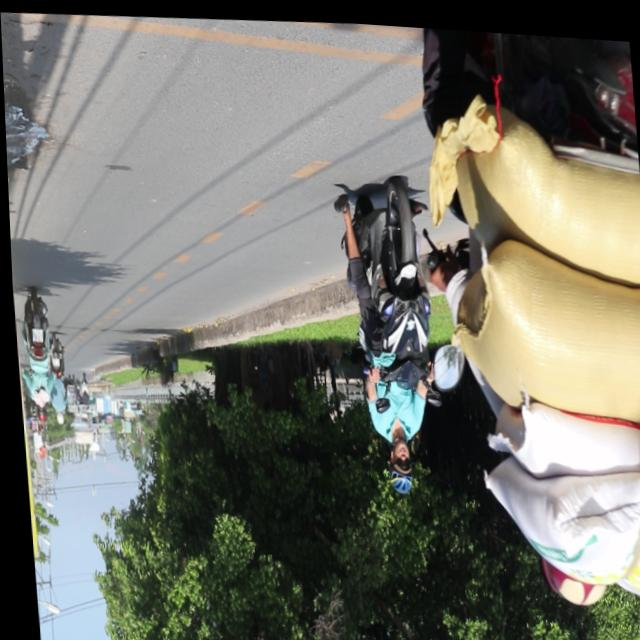helmet: (380, 431, 411, 490)
licenseplate: (399, 21, 640, 640), (329, 168, 443, 493)
